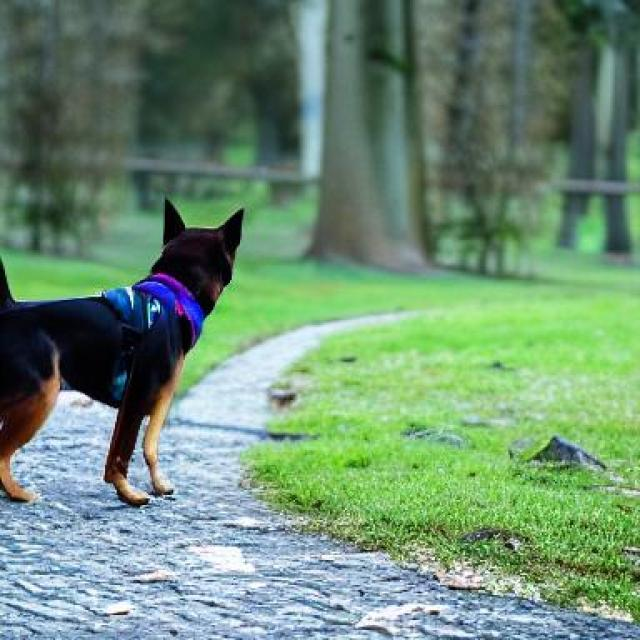Dog: (0, 198, 246, 506)
